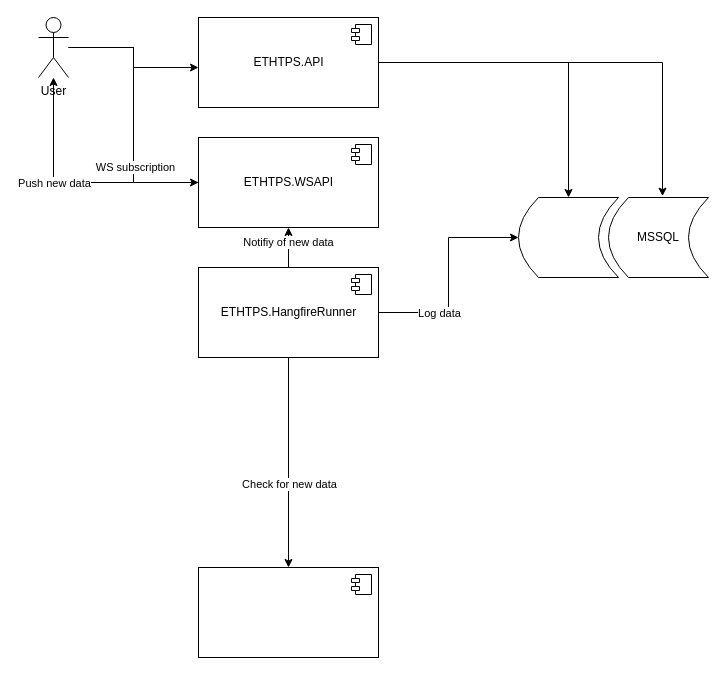
The diagram is 726 pixels wide and 675 high, and some of its shapes have lost their labels. Each missing label, with the box of its shape:
Data provider: (198, 566, 378, 658)
InfluxDB: (518, 196, 618, 278)
